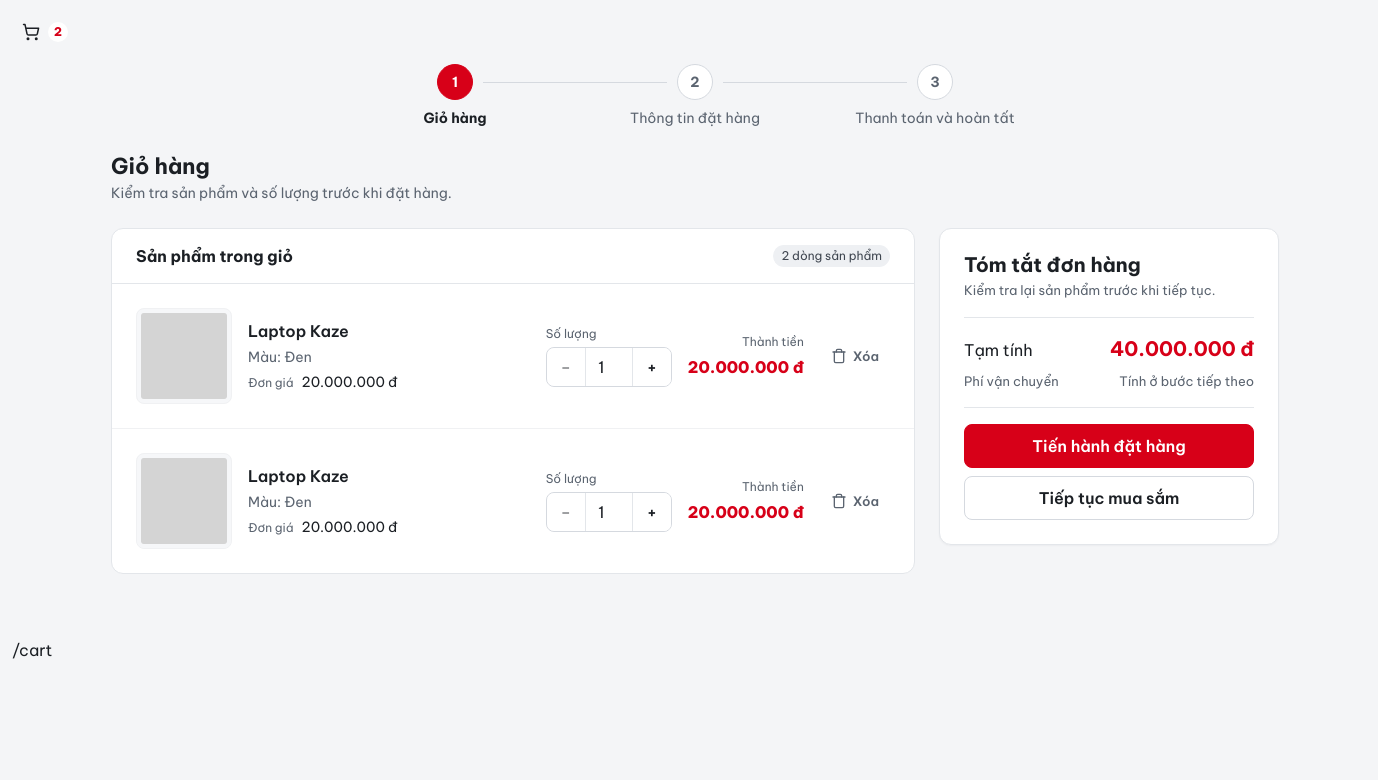
Test: CartPage cùng mini cart: một cache › đổi trên trang giỏ cập nhật mini cart mà không gọi lại GET /api/cart
Check: the text with class "mini-cart-badge" reads "2", box [54,24,62,39]
Click the 1st button "Xóa" at {"x": 855, "y": 356}, box [820,340,890,372]
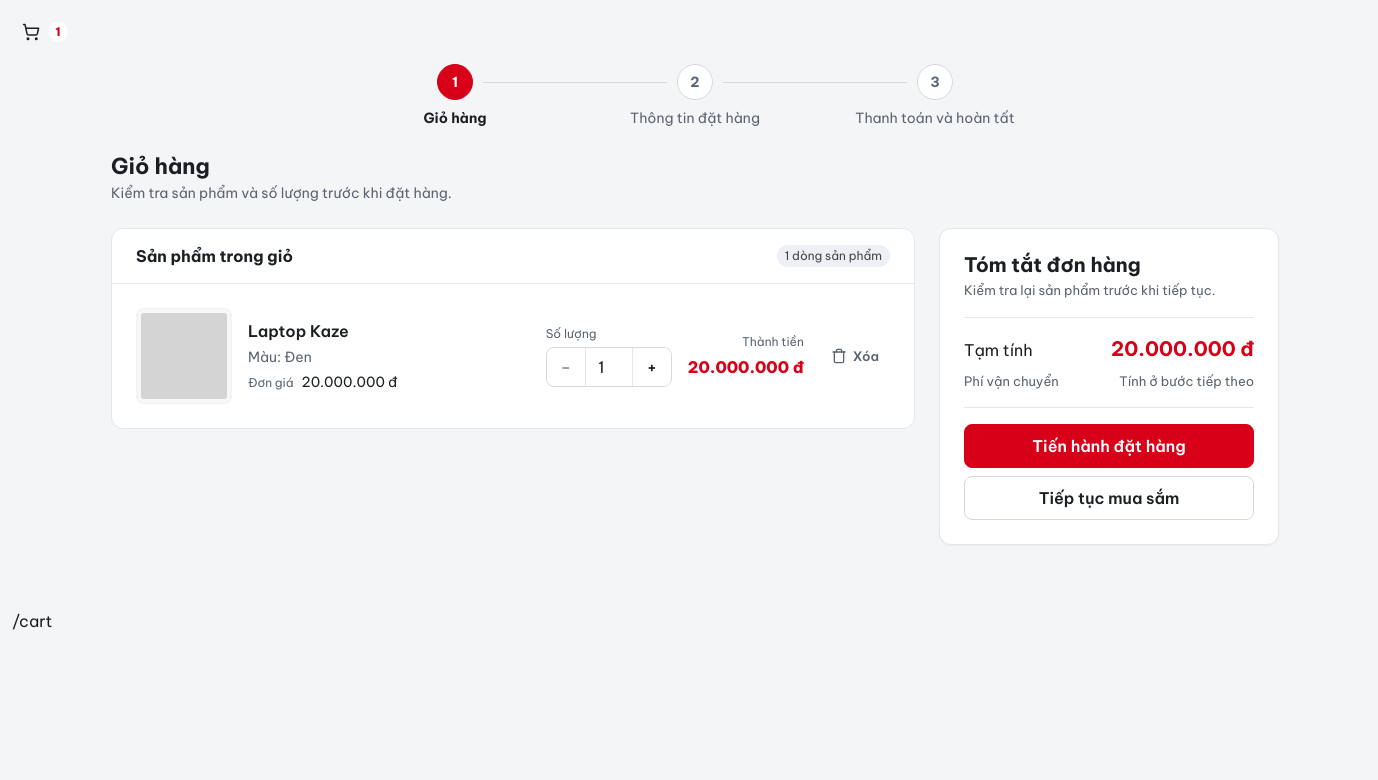
Check: the text with class "mini-cart-badge" reads "1", box [55,24,61,39]
